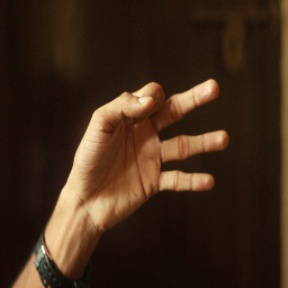K: (78, 77, 229, 215)
